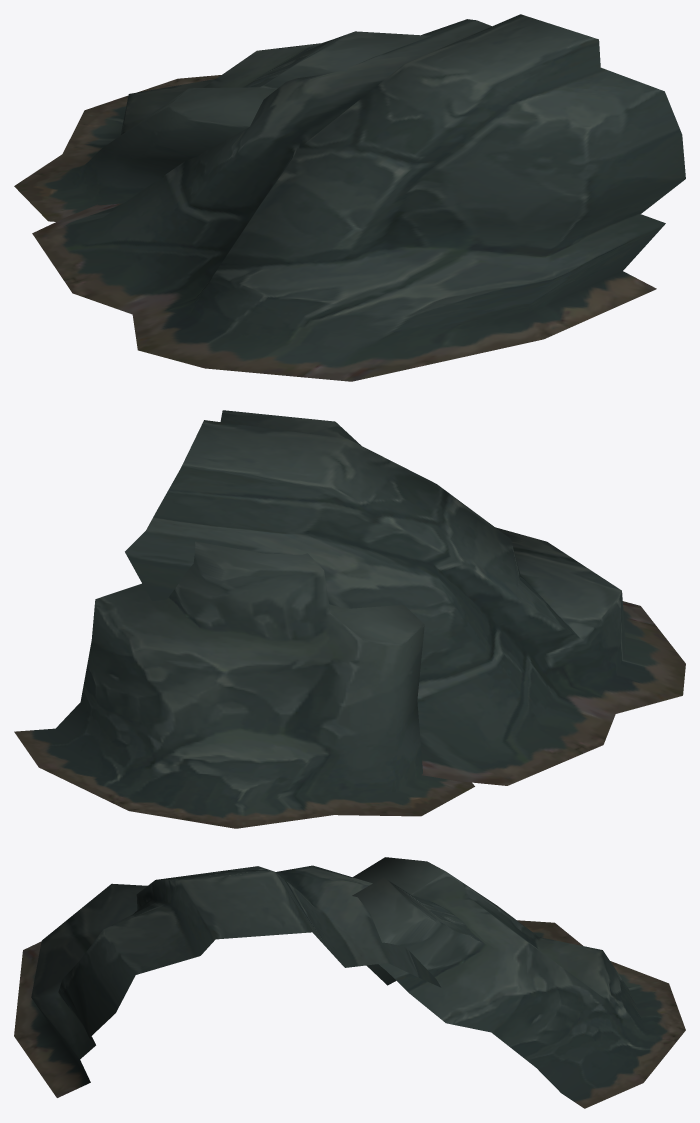
File: oTerHill01c.FBX
3 views of the same model, one above another, from view 1: azimuth 30°, elevation 25°; view 2: azimuth 150°, elevation 25°; view 3: azimuth 270°, elevation 25° (orthographic). The views are drawn at different scales.
Visible parts, largest first — view 1: oTerHill01c; view 2: oTerHill01c; view 3: oTerHill01c.
Part boxes in pixels (x1,y1,x2,y2): oTerHill01c: [14, 14, 685, 381]; oTerHill01c: [14, 410, 685, 828]; oTerHill01c: [14, 857, 685, 1108].
Bounding box in the file's own units: 65.24 × 79.28 × 22.31.
